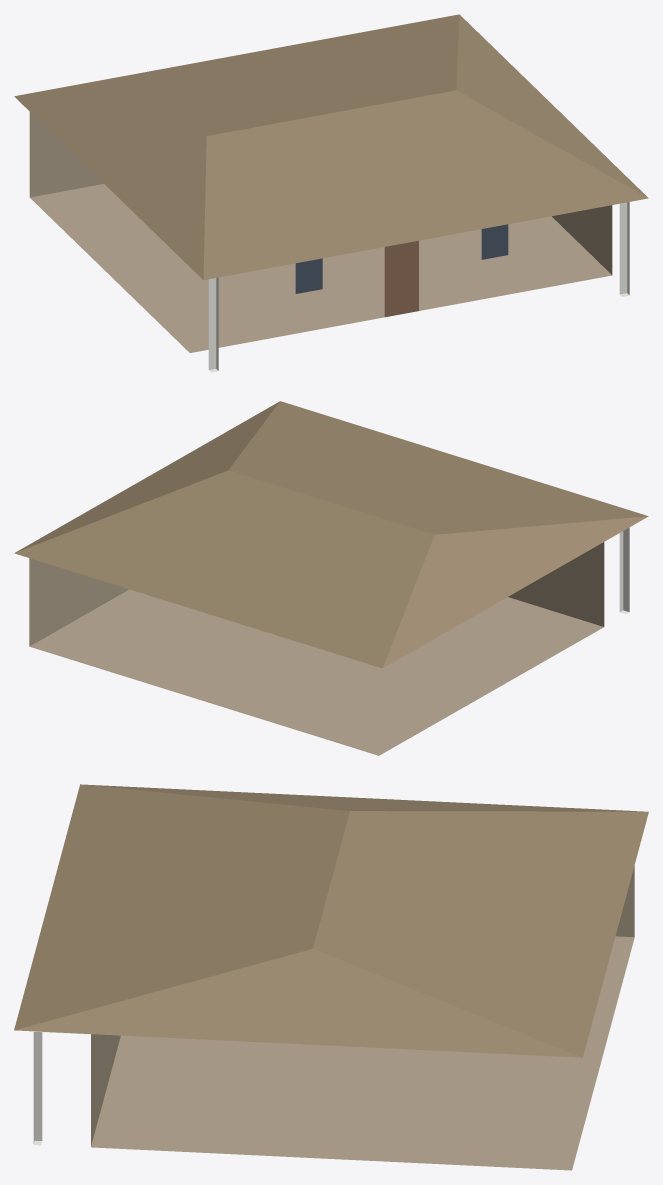
File: para_house_a.glb
3 renders of one model, top to bottom at view 1: azimuth 30°, elevation 25°; view 2: azimuth 150°, elevation 25°; view 3: azimuth 270°, elevation 25°, orthographic. The views are drawn at different scales.
Visible parts, largest first — view 1: para_house_a_lod0; view 2: para_house_a_lod0; view 3: para_house_a_lod0.
Part boxes in pixels (bbox=[...]): para_house_a_lod0: bbox=[14, 14, 648, 372]; para_house_a_lod0: bbox=[14, 401, 648, 755]; para_house_a_lod0: bbox=[14, 784, 648, 1170].
Size of what is drawn, in the model's own units: 12.82 by 3.55 by 12.59.
